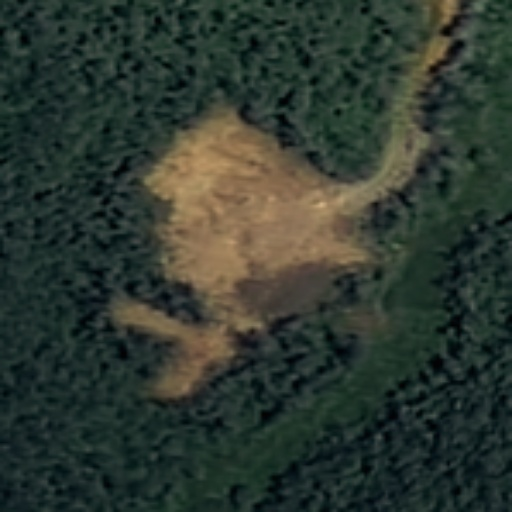landslide: (113, 104, 371, 402)
